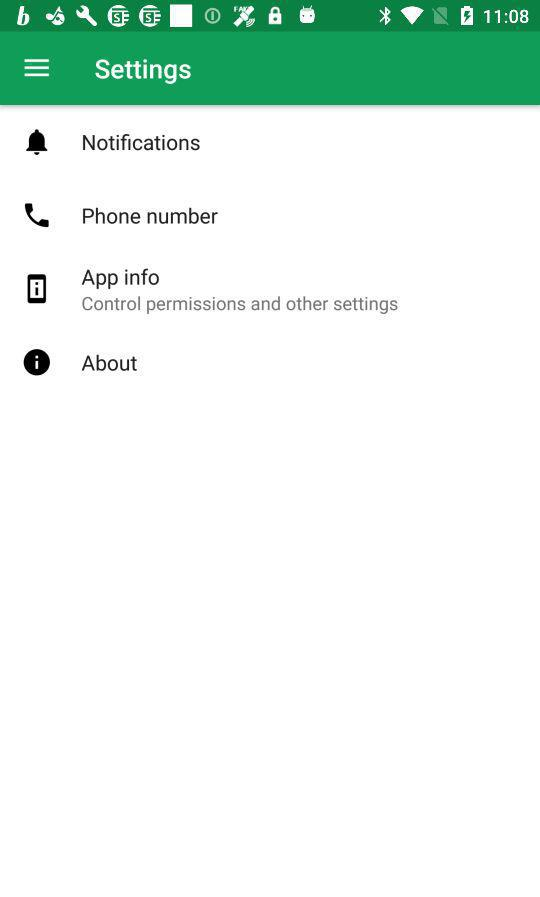Icon: (23, 349, 51, 376), (26, 129, 49, 156), (28, 274, 48, 304), (24, 58, 51, 78)
Image: (25, 203, 50, 228)
Text: (82, 296, 398, 315), (95, 59, 192, 86), (83, 207, 219, 225), (83, 135, 201, 152), (82, 268, 160, 290), (82, 354, 138, 372)
Toolbar: (1, 33, 540, 106)
UpperTaskBar: (1, 1, 540, 33)
